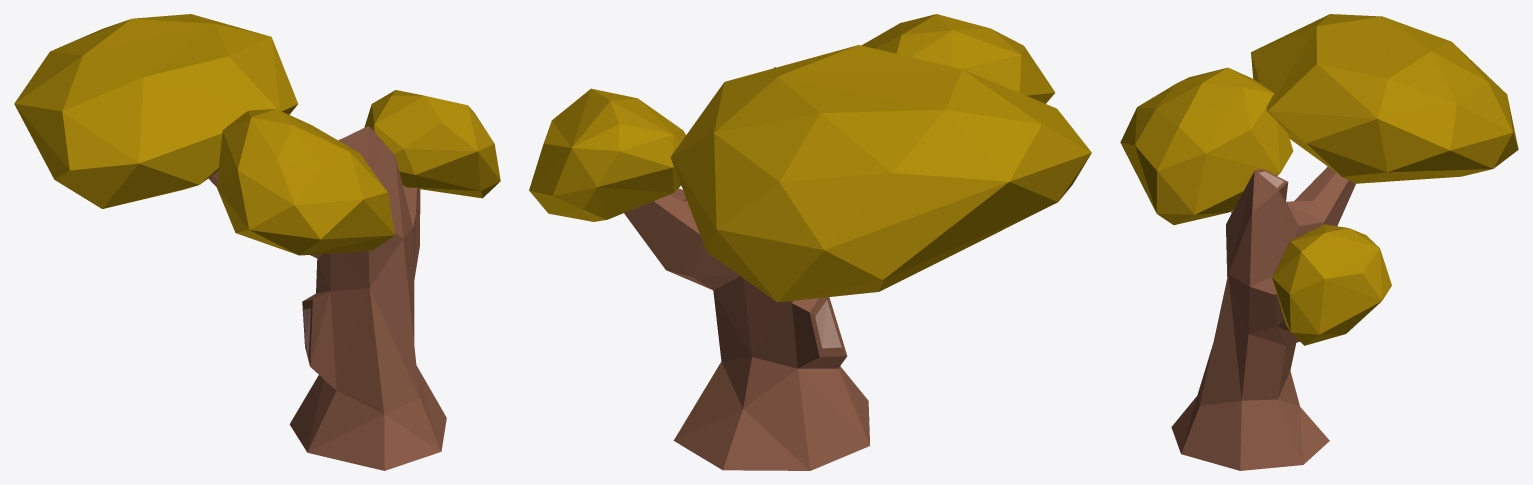
File: co_Tree16_B.fbx
3 views of the same model, side by side, from view 1: azimuth 30°, elevation 25°; view 2: azimuth 150°, elevation 25°; view 3: azimuth 270°, elevation 25° (orthographic). The views are drawn at different scales.
Visible parts, largest first — view 1: Tree16_B_LOD0; view 2: Tree16_B_LOD0; view 3: Tree16_B_LOD0.
Part boxes in pixels (<box>): Tree16_B_LOD0: <box>14,14,500,470</box>; Tree16_B_LOD0: <box>529,14,1091,470</box>; Tree16_B_LOD0: <box>1120,14,1518,470</box>.
Size of what is drawn, in the model's own units: 37.35 by 30.21 by 32.89.
